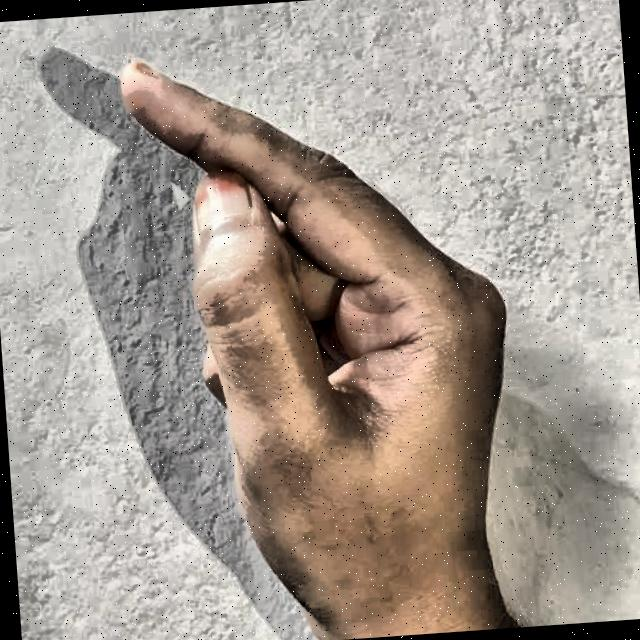Tha: (98, 19, 544, 640)
